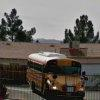Bus: (24, 46, 84, 100)
